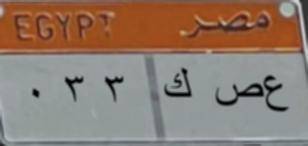0: (27, 84, 44, 102)
3: (102, 72, 126, 109), (62, 72, 88, 106)
ain: (263, 68, 291, 117)
kaaf: (162, 63, 194, 104)
saad: (213, 78, 264, 108)
